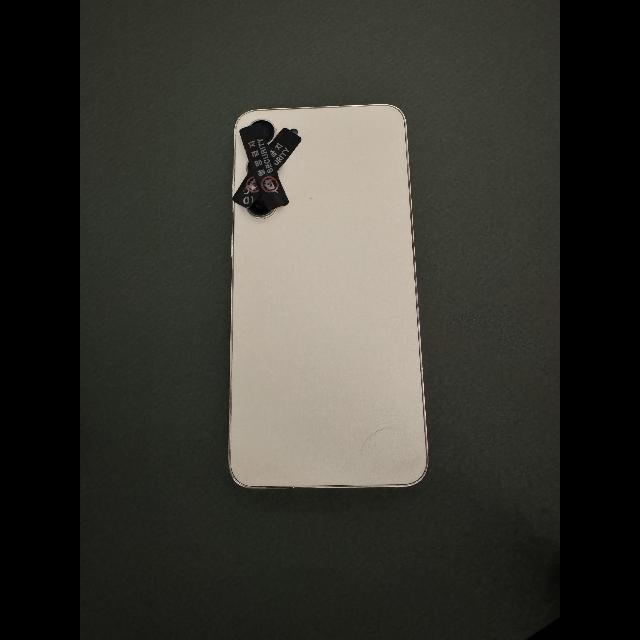lens: (250, 120, 275, 144), (248, 196, 274, 219), (247, 162, 250, 172)
phone: (229, 105, 428, 488)
sticker: (240, 123, 289, 210), (270, 127, 301, 168)
